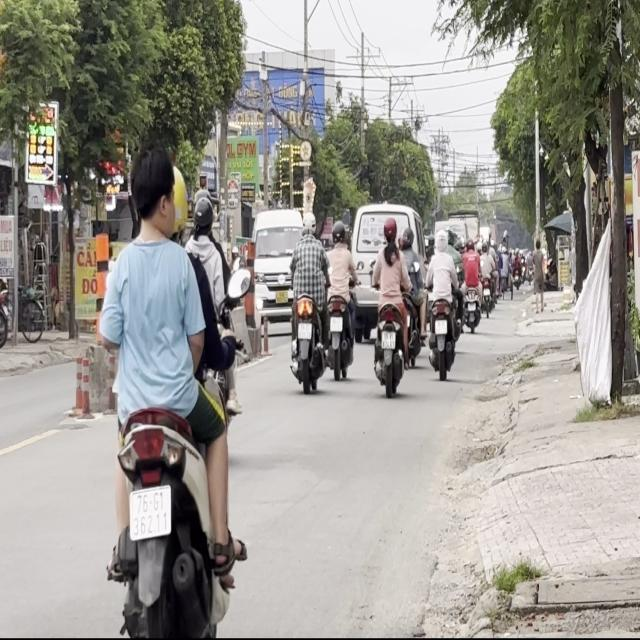helmet: (170, 157, 188, 240), (190, 192, 214, 238), (301, 210, 316, 236)
licenseplate: (94, 144, 246, 634), (286, 209, 326, 391)
motorcyclist: (127, 145, 177, 237)
nohelmet: (130, 486, 170, 540), (298, 322, 312, 340)
